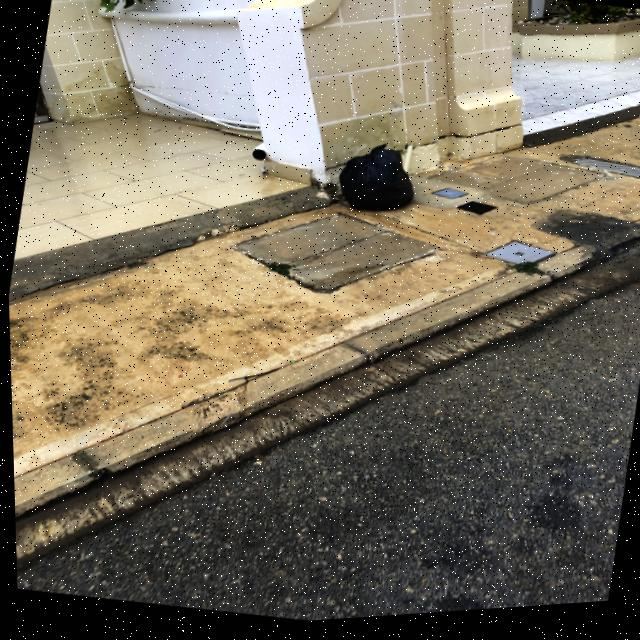Mixed Waste -Black Bag-: (332, 144, 422, 224)
